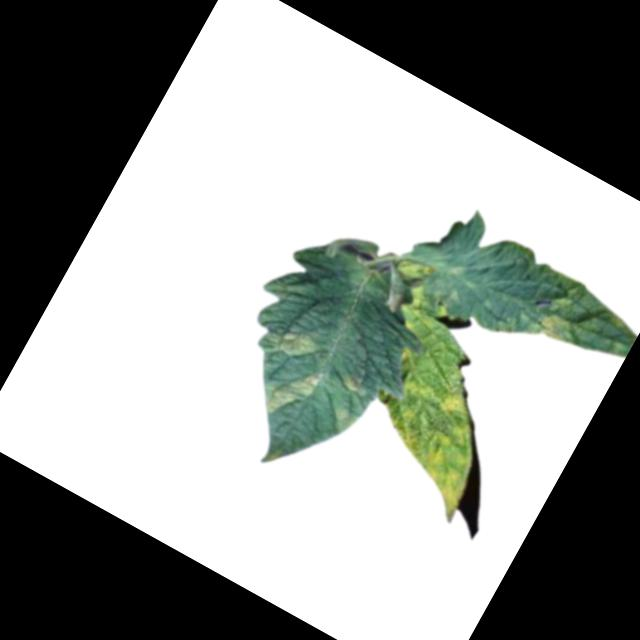Leaf_Mold: (340, 350, 512, 523), (253, 350, 329, 432), (256, 317, 321, 374), (533, 307, 584, 352), (329, 406, 358, 435), (339, 367, 368, 395)
